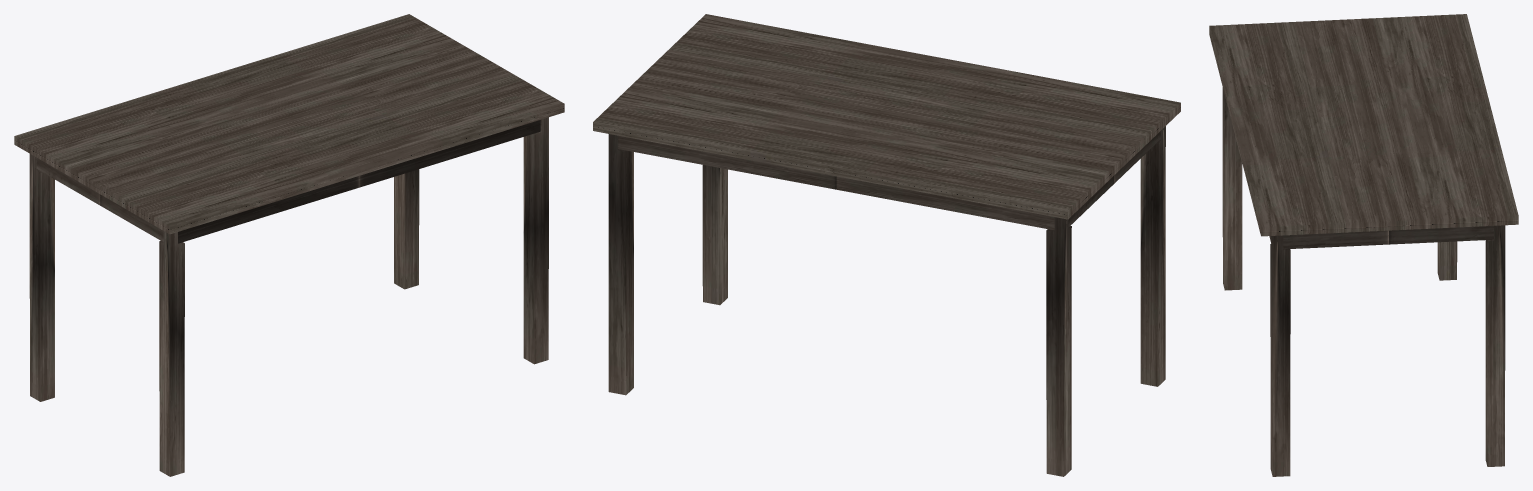
3 renders of one model, left to right at view 1: azimuth 30°, elevation 25°; view 2: azimuth 150°, elevation 25°; view 3: azimuth 270°, elevation 25°, orthographic. The views are drawn at different scales.
Visible parts, largest first — view 1: Bistro_Research_Interior_Paris_Table_02B__3258; view 2: Bistro_Research_Interior_Paris_Table_02B__3258; view 3: Bistro_Research_Interior_Paris_Table_02B__3258.
Boxes of the visible parts, bbox=[...] form: Bistro_Research_Interior_Paris_Table_02B__3258: bbox=[14, 14, 564, 476]; Bistro_Research_Interior_Paris_Table_02B__3258: bbox=[593, 14, 1180, 476]; Bistro_Research_Interior_Paris_Table_02B__3258: bbox=[1209, 14, 1518, 476].
Size of the model in its own units: 1.37 by 0.7575 by 0.8377.
Materials: 1 (1 with a texture image).
